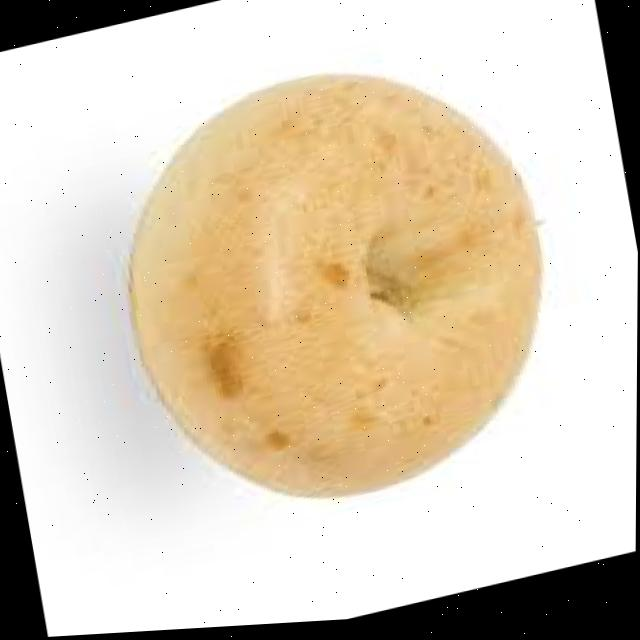Bagel: (131, 79, 541, 501)
